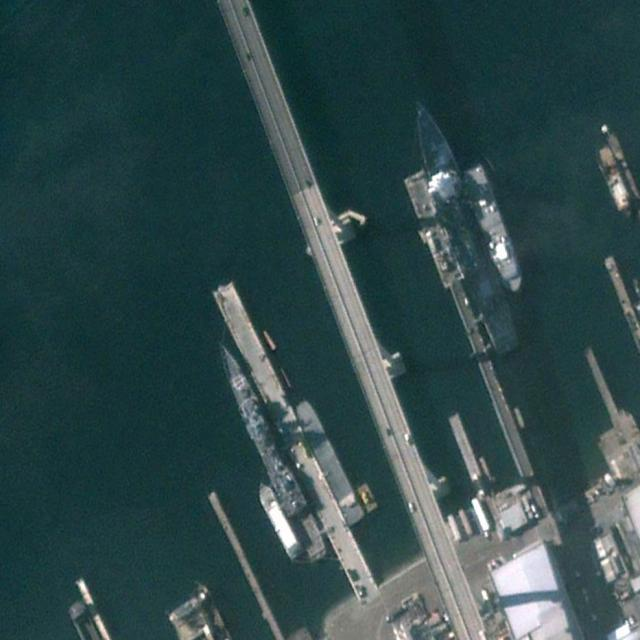Destroyer: (401, 91, 525, 359)
Frigate: (209, 332, 331, 567)
Other Ship: (460, 159, 528, 297)
